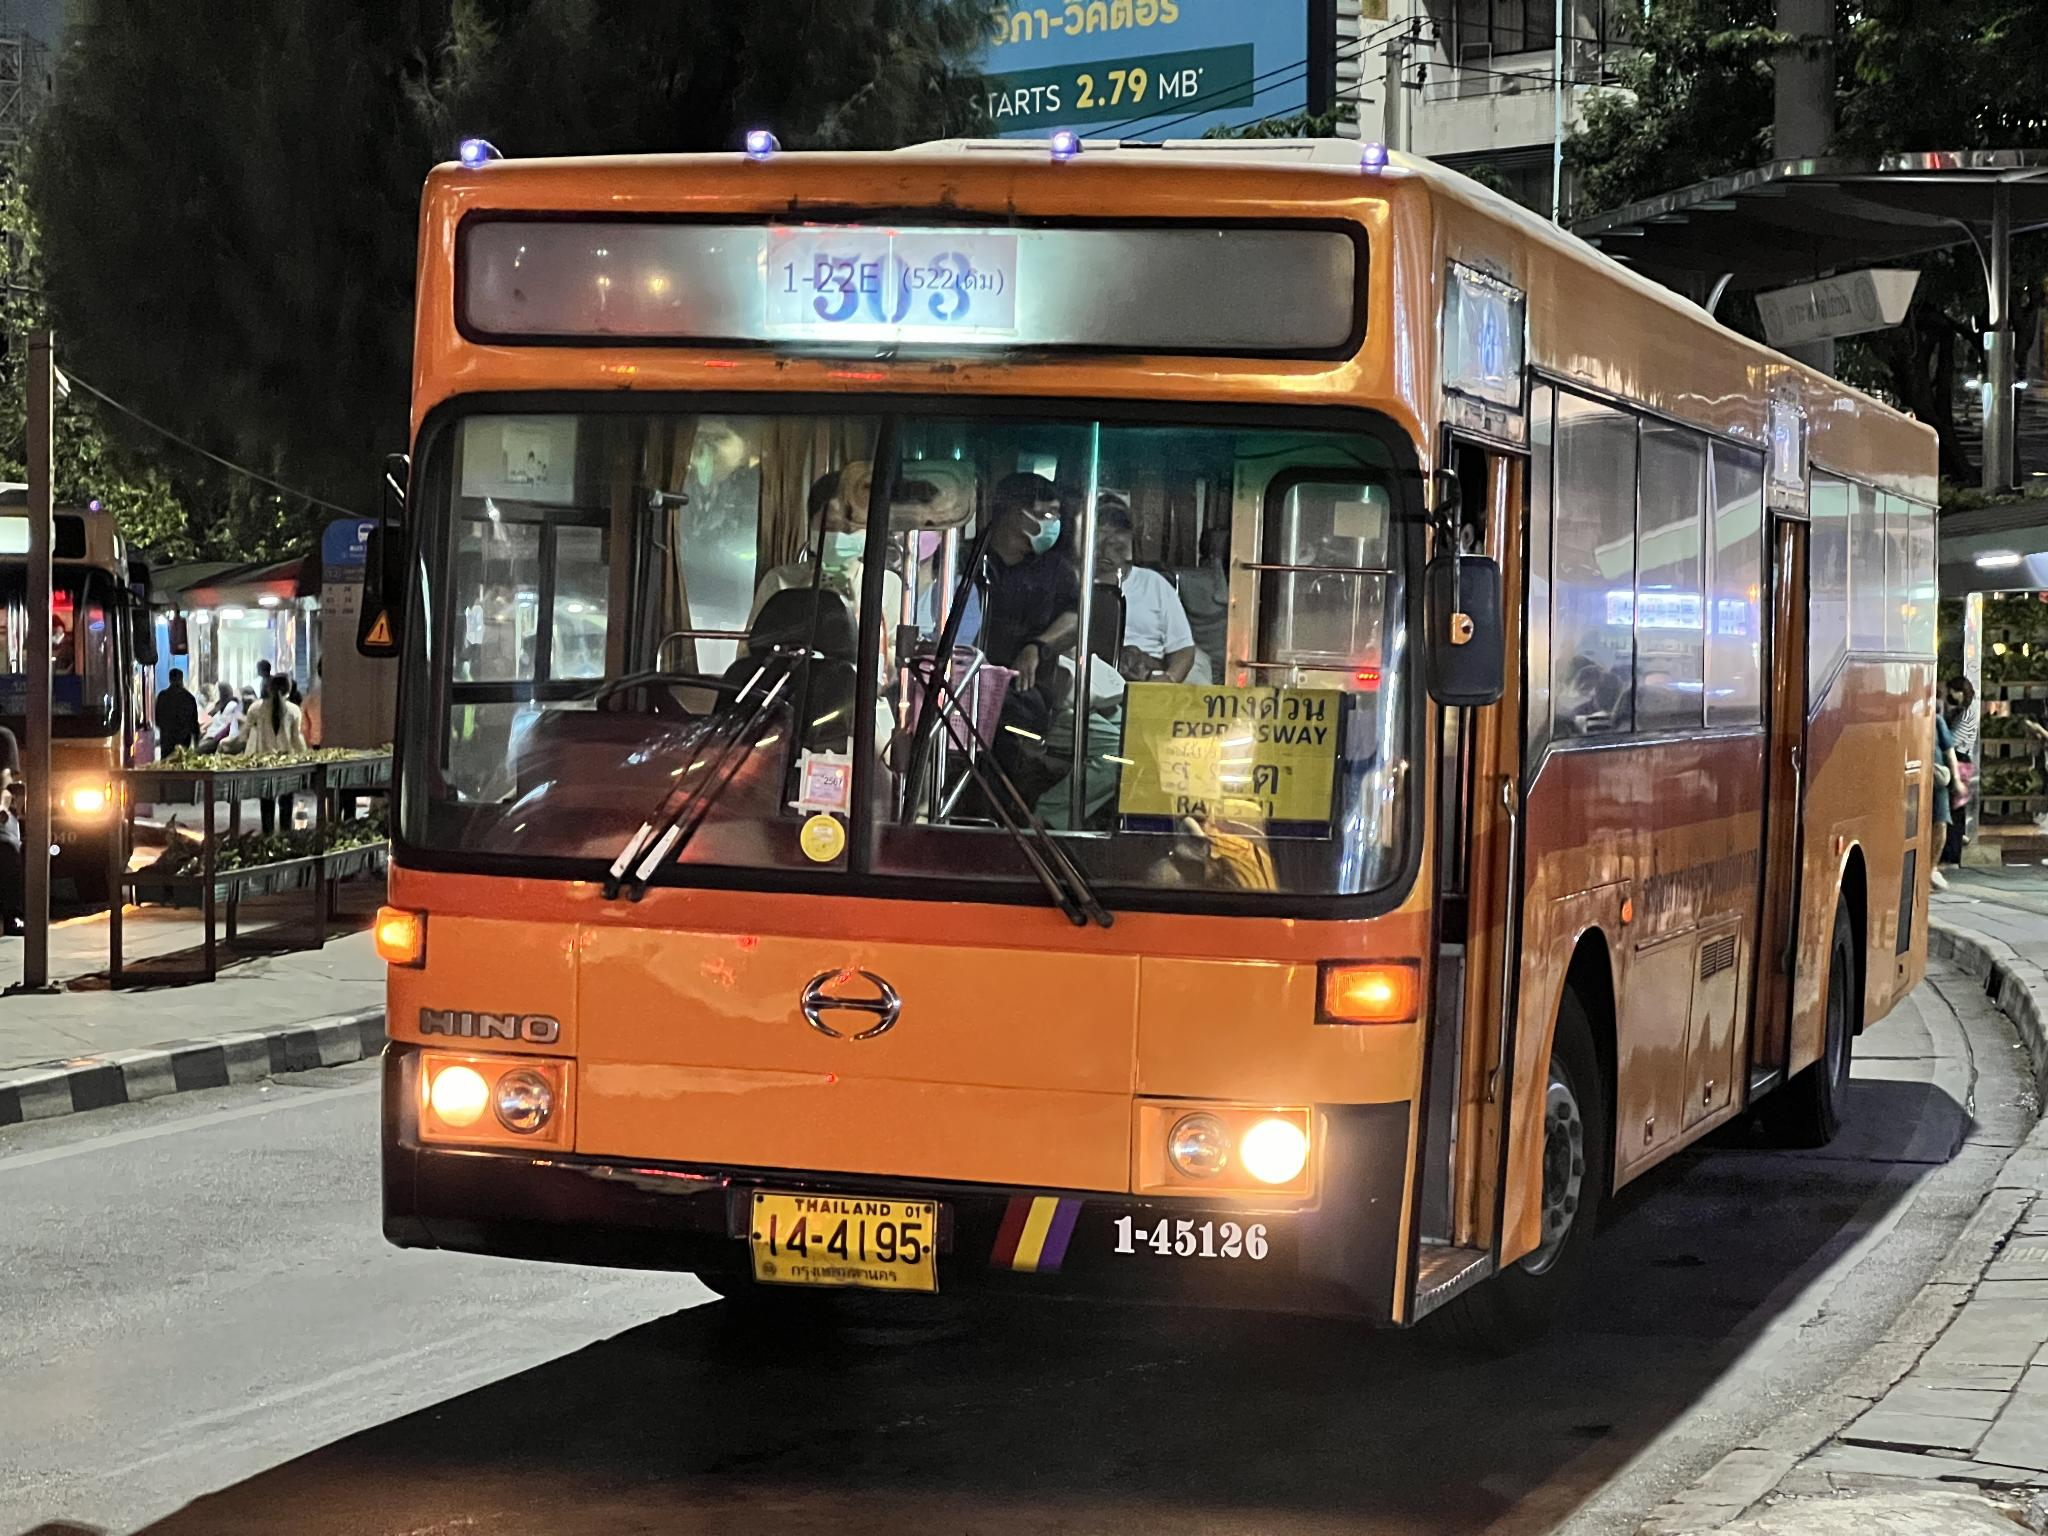BMTA-bus: (371, 147, 1945, 1338)
Bus Line Number: (750, 213, 1032, 349)
Bus Side Number: (1092, 1192, 1274, 1291)
Destination Sign: (1116, 678, 1340, 828)
